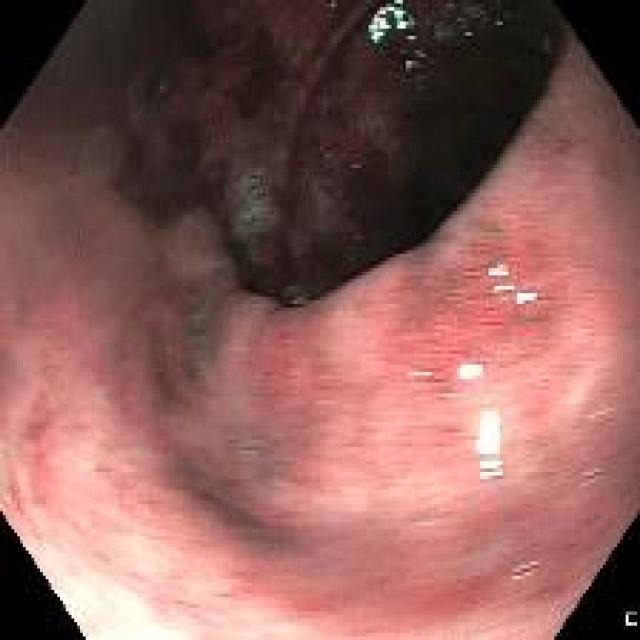blood: (127, 4, 231, 195), (235, 33, 273, 119)
blur: (1, 7, 638, 635), (105, 227, 596, 615)
bubbles: (232, 166, 278, 243), (434, 1, 510, 45), (409, 41, 439, 90), (144, 68, 176, 104), (279, 280, 313, 311), (310, 134, 338, 164), (535, 27, 557, 64), (381, 168, 406, 195), (350, 227, 366, 245), (350, 157, 362, 175), (325, 1, 344, 9)
contrast: (225, 18, 556, 303)
saturation: (46, 554, 180, 633)
specularity: (470, 405, 508, 488), (483, 256, 543, 308), (365, 7, 408, 42), (453, 353, 486, 386), (406, 360, 434, 384), (512, 559, 540, 582), (403, 59, 413, 73)
